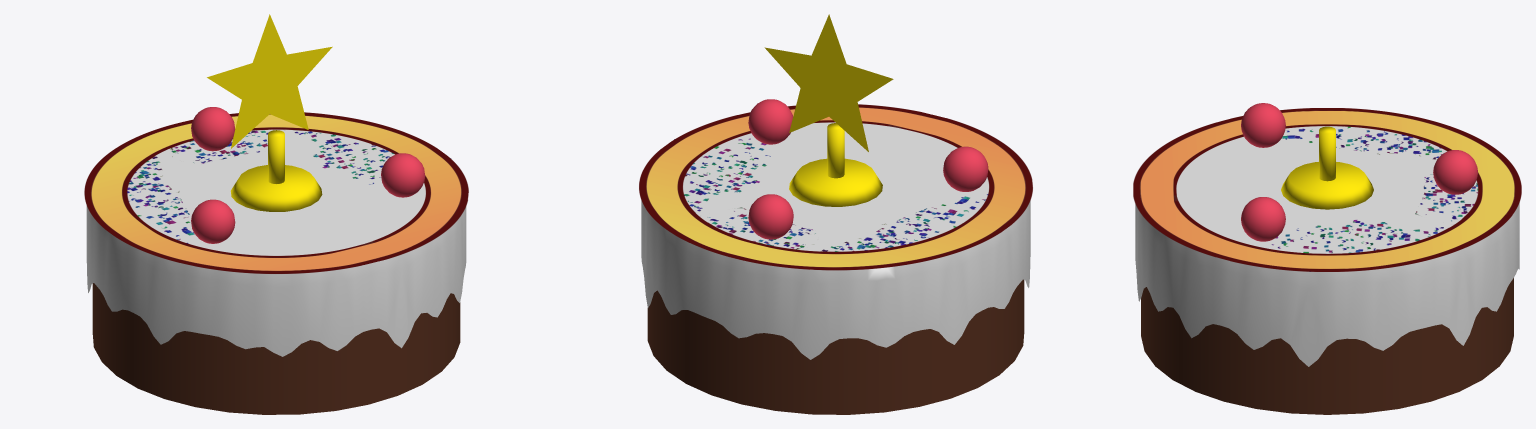
Rendered from cake.glb.
3 renders of one model, left to right at view 1: azimuth 30°, elevation 25°; view 2: azimuth 150°, elevation 25°; view 3: azimuth 270°, elevation 25°, orthographic. The views are drawn at different scales.
Visible parts, largest first — view 1: Icing, Cake, Circle, Star, StarBase, Cherry3, Cherry2, Cherry1, StarStem; view 2: Icing, Cake, Circle, Star, StarBase, Cherry1, Cherry2, Cherry3, StarStem; view 3: Icing, Cake, Circle, StarBase, Cherry3, Cherry1, Cherry2, StarStem.
Part boxes in pixels (box(x1,y1,x2,y2)): Icing: box(86, 129, 466, 356); Cake: box(92, 283, 460, 414); Circle: box(84, 112, 468, 273); Star: box(207, 14, 332, 148); StarBase: box(230, 165, 322, 211); Cherry3: box(381, 153, 425, 197); Cherry2: box(191, 199, 235, 243); Cherry1: box(191, 107, 235, 151); StarStem: box(268, 130, 284, 183); Icing: box(641, 122, 1030, 359); Cake: box(647, 279, 1024, 414); Circle: box(639, 104, 1032, 270); Star: box(764, 14, 893, 151); StarBase: box(789, 158, 882, 206); Cherry1: box(748, 194, 793, 239); Cherry2: box(943, 146, 988, 191); Cherry3: box(748, 99, 792, 144); StarStem: box(827, 123, 844, 178); Icing: box(1135, 126, 1519, 366); Cake: box(1141, 278, 1513, 414); Circle: box(1133, 108, 1521, 271); StarBase: box(1281, 162, 1373, 209); Cherry3: box(1241, 197, 1285, 241); Cherry1: box(1433, 150, 1477, 194); Cherry2: box(1241, 103, 1285, 147); StarStem: box(1319, 126, 1335, 181).
Size of the model in its own units: 1 by 0.9155 by 1.
Materials: 4 (1 with a texture image).
